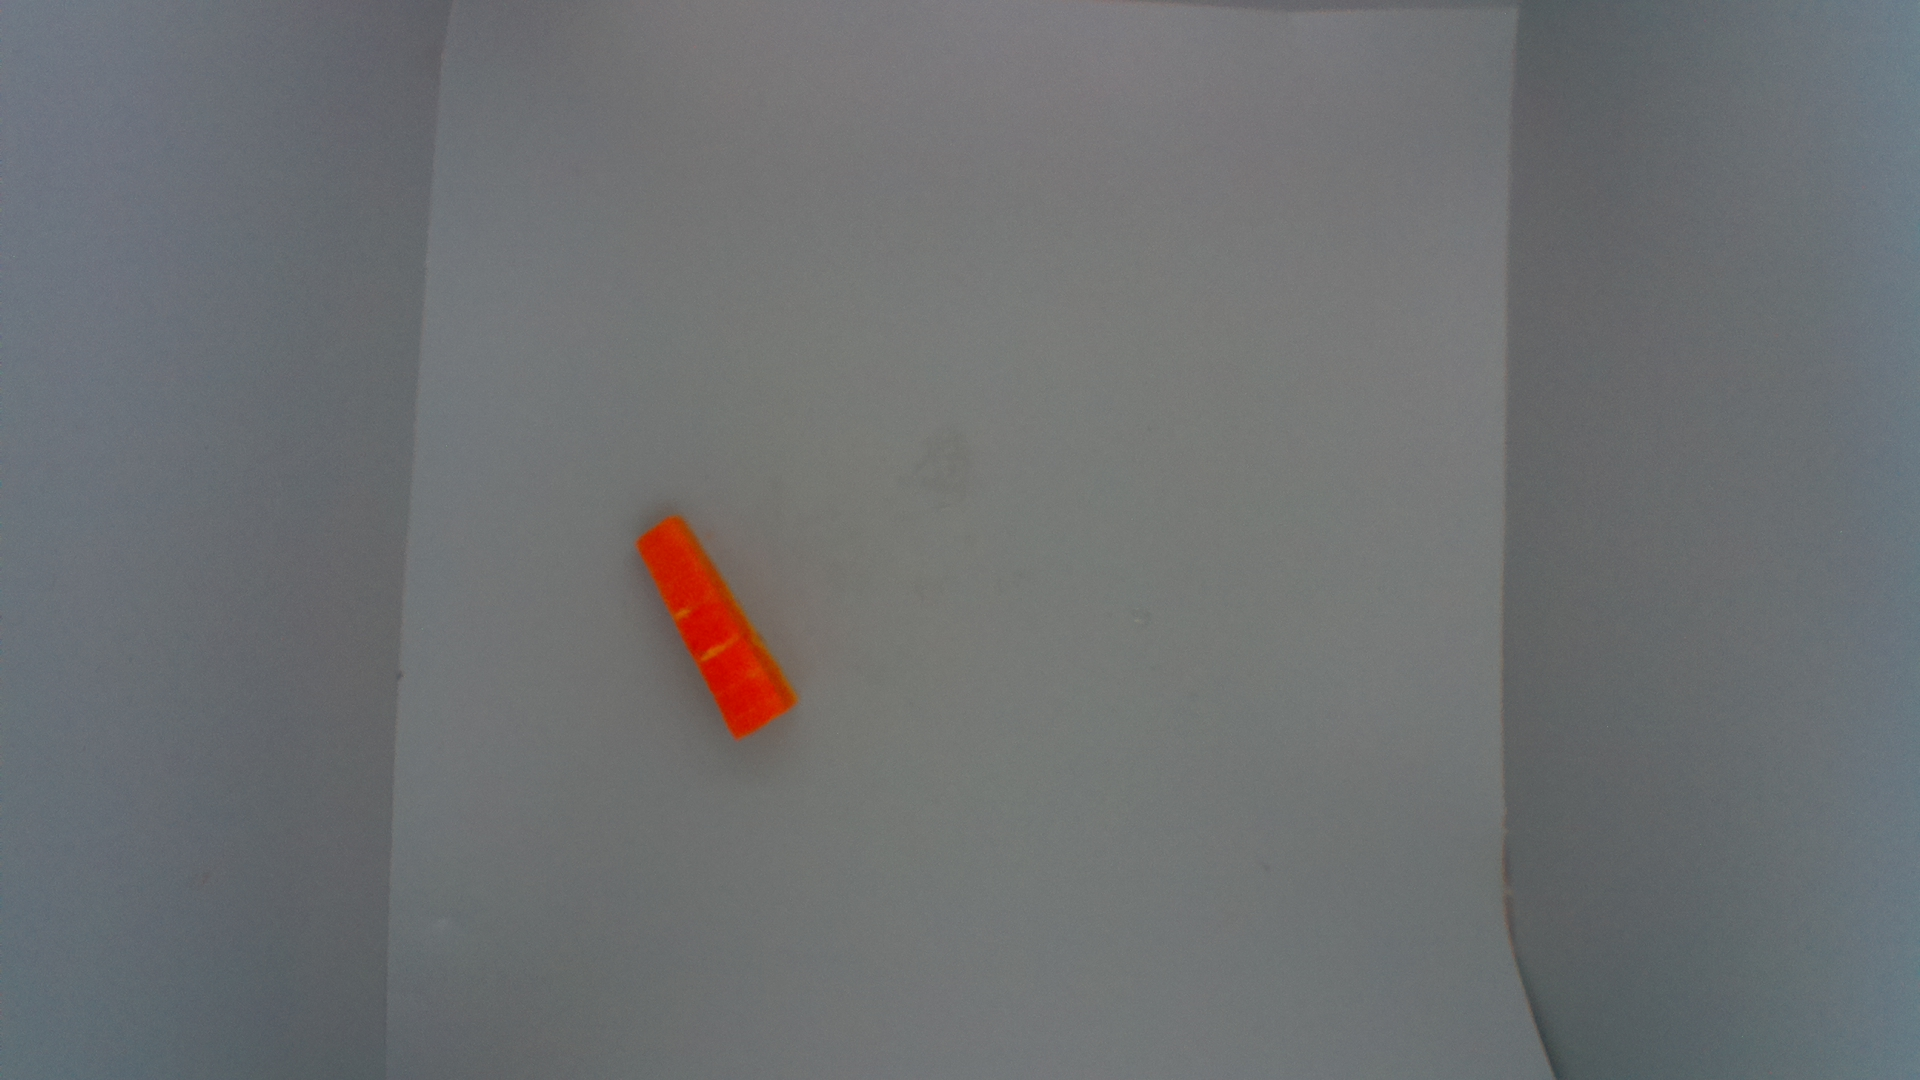carrot: (632, 512, 799, 748)
